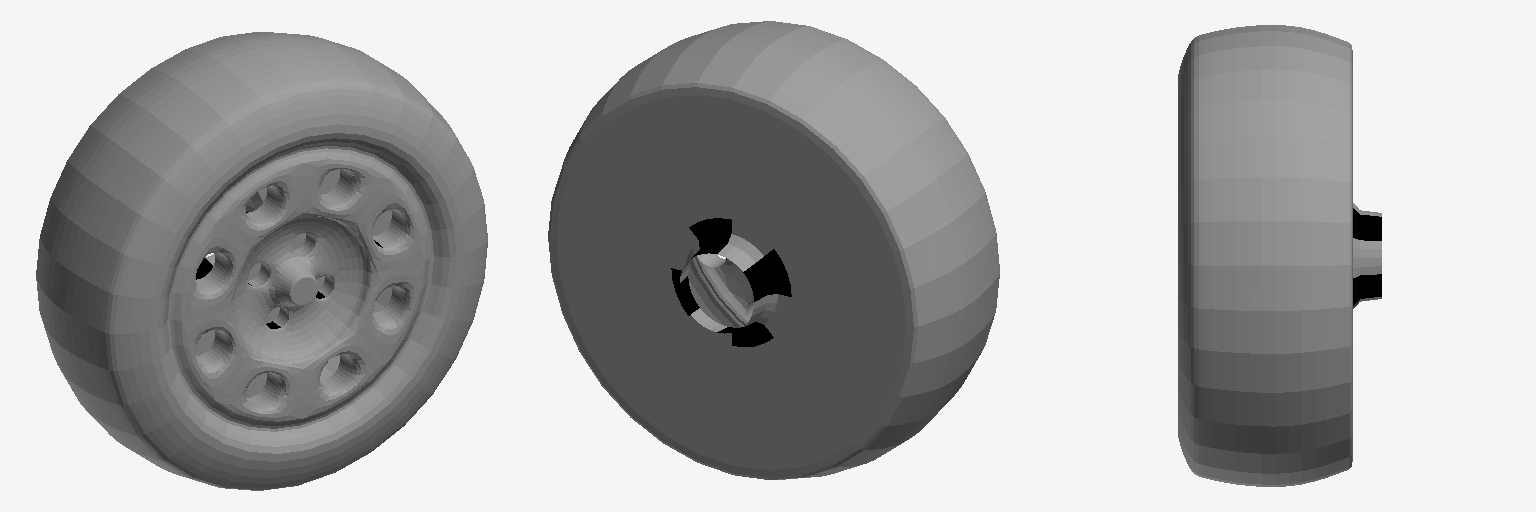
Rendered from llantadef4.obj.
3 views of the same model, side by side, from view 1: azimuth 30°, elevation 25°; view 2: azimuth 150°, elevation 25°; view 3: azimuth 270°, elevation 25° (orthographic).
Parts seen in each view (by area): view 1: Cube_001_Malla; view 2: Cube_001_Malla; view 3: Cube_001_Malla.
Boxes of the visible parts, <box> form: Cube_001_Malla: <box>36,32,487,490</box>; Cube_001_Malla: <box>548,21,999,479</box>; Cube_001_Malla: <box>1178,25,1381,486</box>.
Bounding box in the file's own units: 3.02 × 3.02 × 1.33.